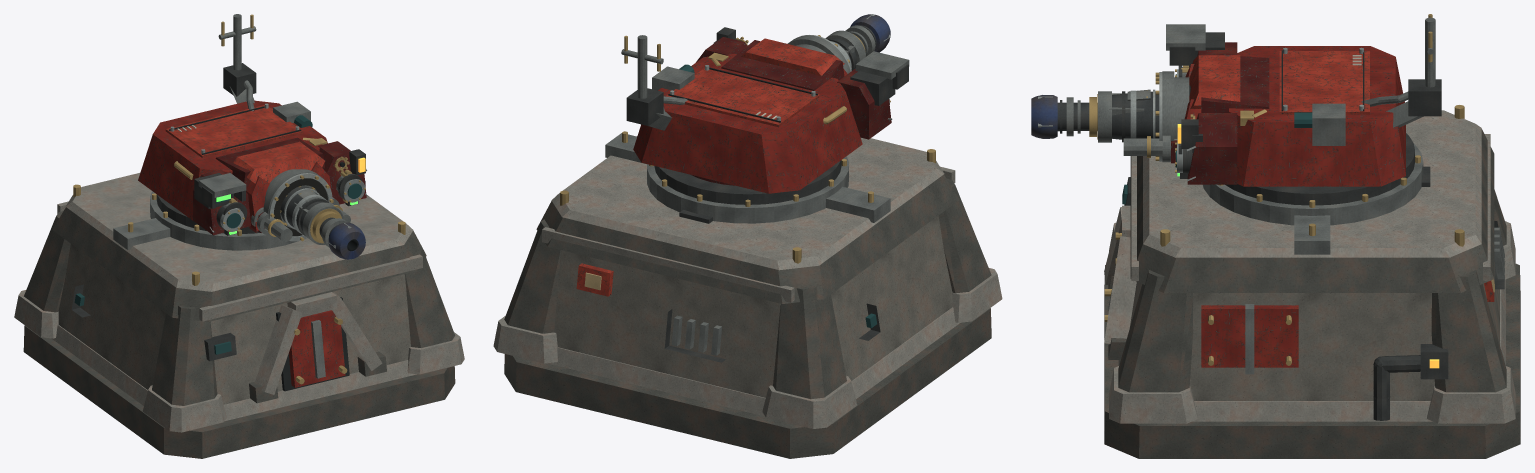
Rendered from martian_heavy_weapon_bunker_v08_textured_export.glb.
3 renders of one model, left to right at view 1: azimuth 30°, elevation 25°; view 2: azimuth 150°, elevation 25°; view 3: azimuth 270°, elevation 25°, orthographic. The views are drawn at different scales.
Visible parts, largest first — view 1: 03_monolithic_bunker_mass, 01_foundation_granular_ferrocrete, 05_top_concrete_skin, 04_upper_blast_cap, 16_martian_red_turret_armor, 06_corner_armor_buttress_WS, 02_lower_blast_raft, 87_roof_red_inspection_armor, 53_south_slab_anchor_strip, 06_corner_armor_buttress_ES, 09_steel_service_hatch, 06_corner_armor_buttress_WN (+27 smaller); view 2: 03_monolithic_bunker_mass, 05_top_concrete_skin, 01_foundation_granular_ferrocrete, 16_martian_red_turret_armor, 04_upper_blast_cap, 02_lower_blast_raft, 06_corner_armor_buttress_WN, 87_roof_red_inspection_armor, 13_ring_lower_bearing_seat, 06_corner_armor_buttress_EN, 06_corner_armor_buttress_WS, 14_ring_open_bearing_race (+18 smaller); view 3: 05_top_concrete_skin, 03_monolithic_bunker_mass, 01_foundation_granular_ferrocrete, 04_upper_blast_cap, 16_martian_red_turret_armor, 06_corner_armor_buttress_ES, 06_corner_armor_buttress_EN, 55_east_wall_controller_armor, 87_roof_red_inspection_armor, 02_lower_blast_raft, 13_ring_lower_bearing_seat, 18_turret_front_cheek_E (+27 smaller).
Part boxes in pixels (<box>): 03_monolithic_bunker_mass: <box>58,243,410,404</box>; 01_foundation_granular_ferrocrete: <box>23,325,455,458</box>; 05_top_concrete_skin: <box>65,173,413,291</box>; 04_upper_blast_cap: <box>52,207,426,321</box>; 16_martian_red_turret_armor: <box>138,100,327,220</box>; 06_corner_armor_buttress_WS: <box>152,305,217,405</box>; 02_lower_blast_raft: <box>51,324,416,421</box>; 87_roof_red_inspection_armor: <box>165,105,303,157</box>; 53_south_slab_anchor_strip: <box>199,254,422,321</box>; 06_corner_armor_buttress_ES: <box>404,247,454,347</box>; 09_steel_service_hatch: <box>288,310,345,387</box>; 06_corner_armor_buttress_WN: <box>24,211,70,312</box>; 03_monolithic_bunker_mass: <box>554,215,952,397</box>; 05_top_concrete_skin: <box>551,136,944,270</box>; 01_foundation_granular_ferrocrete: <box>504,308,991,458</box>; 16_martian_red_turret_armor: <box>633,53,862,193</box>; 04_upper_blast_cap: <box>536,174,959,303</box>; 02_lower_blast_raft: <box>548,307,960,416</box>; 06_corner_armor_buttress_WN: <box>773,286,846,398</box>; 87_roof_red_inspection_armor: <box>666,68,819,127</box>; 13_ring_lower_bearing_seat: <box>647,156,848,223</box>; 06_corner_armor_buttress_EN: <box>504,219,561,333</box>; 06_corner_armor_buttress_WS: <box>938,179,991,293</box>; 14_ring_open_bearing_race: <box>654,160,841,204</box>; 05_top_concrete_skin: <box>1143,110,1481,257</box>; 03_monolithic_bunker_mass: <box>1130,262,1499,400</box>; 01_foundation_granular_ferrocrete: <box>1104,263,1520,458</box>; 04_upper_blast_cap: <box>1130,129,1494,292</box>; 16_martian_red_turret_armor: <box>1228,46,1405,186</box>; 06_corner_armor_buttress_ES: <box>1118,270,1193,392</box>; 06_corner_armor_buttress_EN: <box>1431,270,1506,392</box>; 55_east_wall_controller_armor: <box>1201,305,1298,367</box>; 87_roof_red_inspection_armor: <box>1279,51,1369,114</box>; 02_lower_blast_raft: <box>1118,279,1505,421</box>; 13_ring_lower_bearing_seat: <box>1203,143,1423,225</box>; 18_turret_front_cheek_E: <box>1187,113,1237,184</box>.
Bounding box in the file's own units: 3.04 × 3.01 × 3.53.
Materials: 20 (20 with a texture image).
